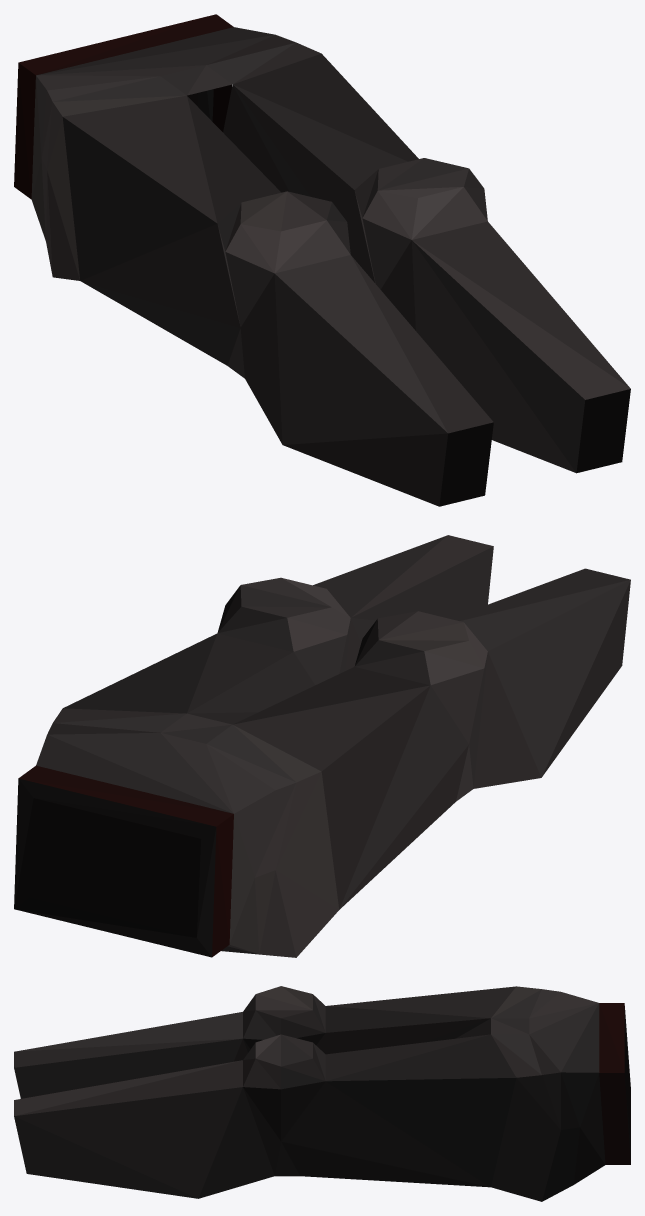
File: iron-platelegs.obj
3 renders of one model, top to bottom at view 1: azimuth 30°, elevation 25°; view 2: azimuth 150°, elevation 25°; view 3: azimuth 270°, elevation 25°, orthographic. The views are drawn at different scales.
Parts seen in each view (by area): view 1: Item Iron platelegs 2026-09-24_18-11-21; view 2: Item Iron platelegs 2026-09-24_18-11-21; view 3: Item Iron platelegs 2026-09-24_18-11-21.
Part boxes in pixels (box(x1,y1,x2,y2)): Item Iron platelegs 2026-09-24_18-11-21: box(14, 14, 630, 506); Item Iron platelegs 2026-09-24_18-11-21: box(14, 535, 630, 957); Item Iron platelegs 2026-09-24_18-11-21: box(14, 986, 630, 1201).
Size of the model in its own units: 34 by 24 by 97.
